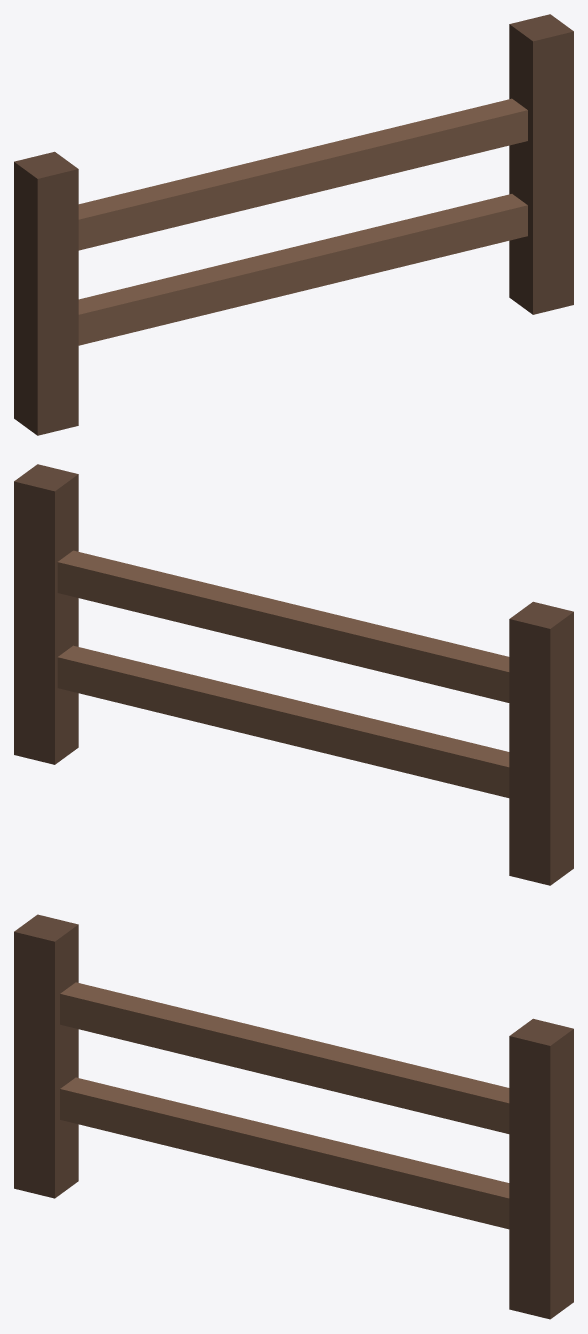
File: ENV_Fence_A_LOD1.glb
3 renders of one model, top to bottom at view 1: azimuth 30°, elevation 25°; view 2: azimuth 150°, elevation 25°; view 3: azimuth 330°, elevation 25°, orthographic.
Parts seen in each view (by area): view 1: ENV_Fence_A_LOD1_timber_wood, ENV_Fence_A_LOD1_timber_woodDark; view 2: ENV_Fence_A_LOD1_timber_wood, ENV_Fence_A_LOD1_timber_woodDark; view 3: ENV_Fence_A_LOD1_timber_wood, ENV_Fence_A_LOD1_timber_woodDark.
Boxes of the visible parts, x1,y1,x2,y2 form: ENV_Fence_A_LOD1_timber_wood: (78, 98, 527, 345); ENV_Fence_A_LOD1_timber_woodDark: (14, 14, 573, 435); ENV_Fence_A_LOD1_timber_wood: (57, 550, 509, 797); ENV_Fence_A_LOD1_timber_woodDark: (14, 464, 573, 885); ENV_Fence_A_LOD1_timber_wood: (60, 982, 509, 1229); ENV_Fence_A_LOD1_timber_woodDark: (14, 914, 573, 1319).
Bounding box in the file's own units: 2.36 × 1.15 × 0.18.
